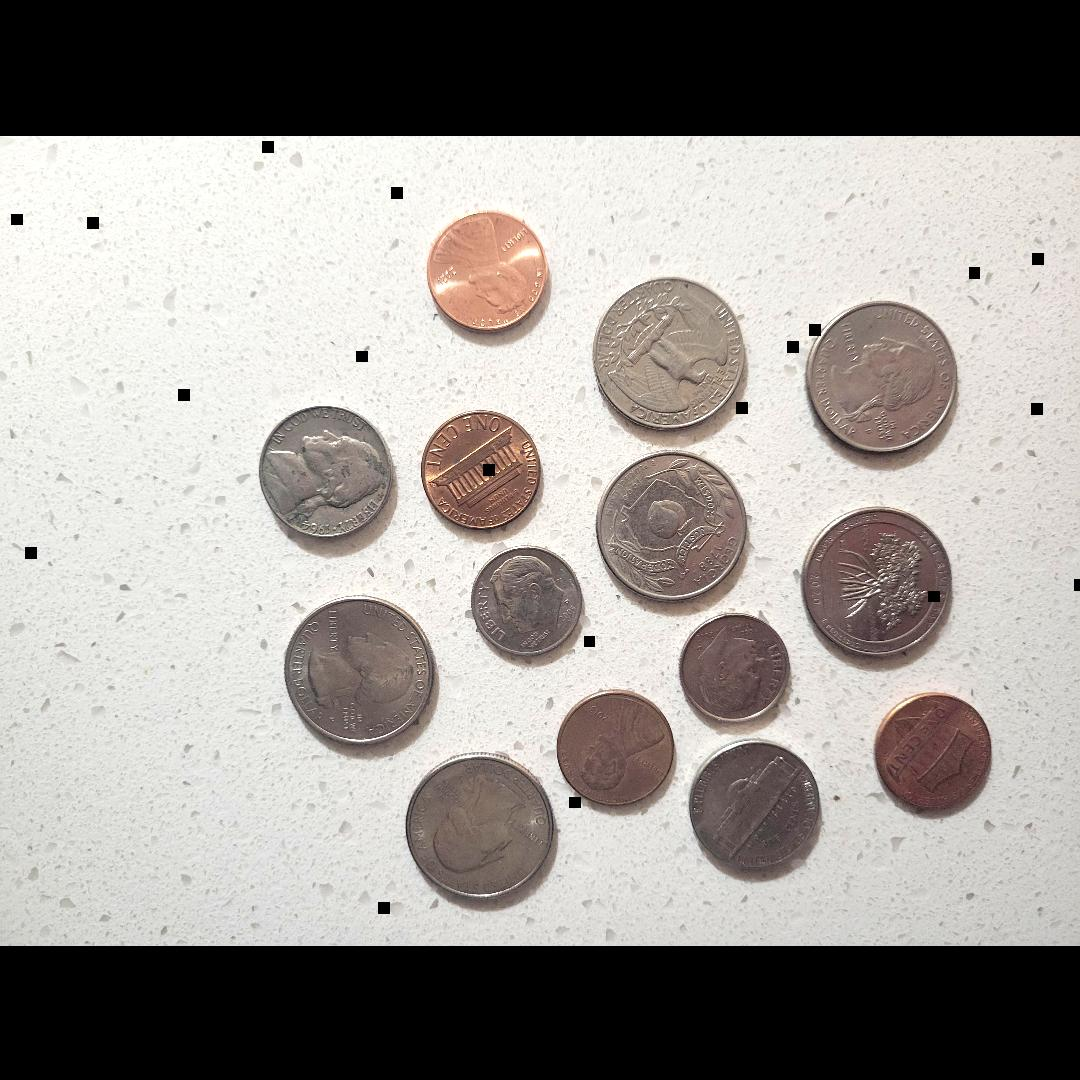Dime: (465, 542, 582, 666), (679, 610, 793, 719)
Nickel: (254, 397, 404, 547), (682, 735, 828, 885)
Penny: (414, 397, 558, 537), (414, 205, 558, 333), (870, 686, 1000, 818), (551, 684, 681, 815)
Quarter: (795, 298, 969, 464), (586, 271, 752, 437), (276, 592, 442, 754), (590, 446, 754, 604), (798, 502, 954, 658), (400, 753, 552, 909)
